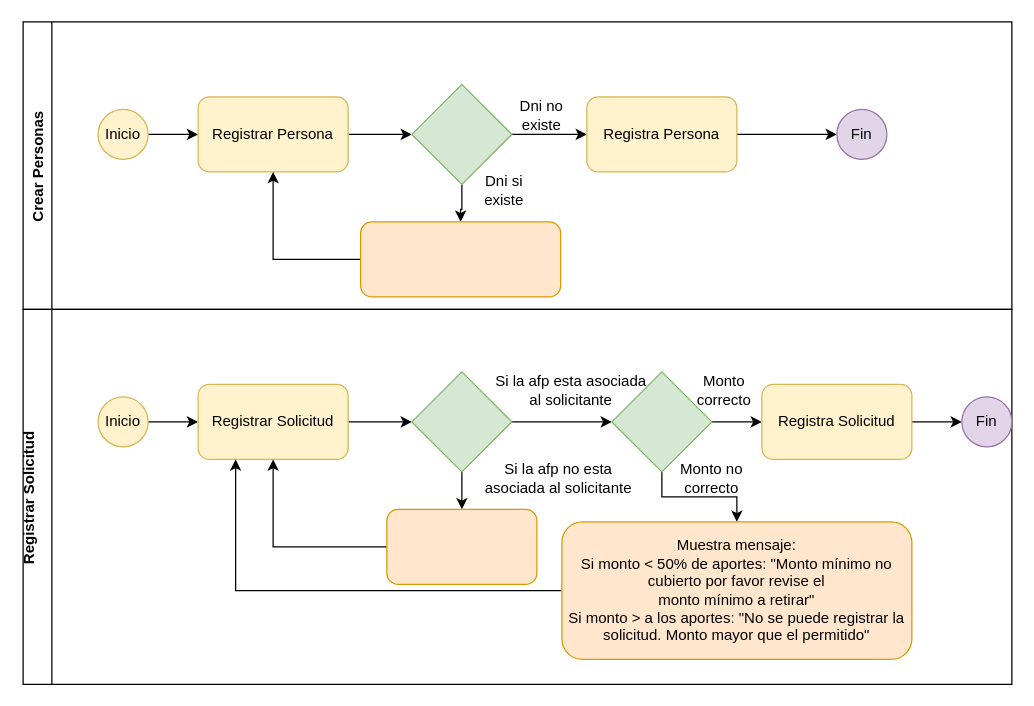
Image size: 1034x706. Some labels were removed from this diagram. Each missing label, with the centre of its shape:
Muestra mensaje: "DNI ya se encuentra registrado": point (460, 259)
Muestra mensaje: "Persona no pertenece a AFP solicitante": point (461, 546)
Verifica AFP: point (461, 421)
Verifica DNI: point (461, 133)
Verifica monto: point (661, 421)
